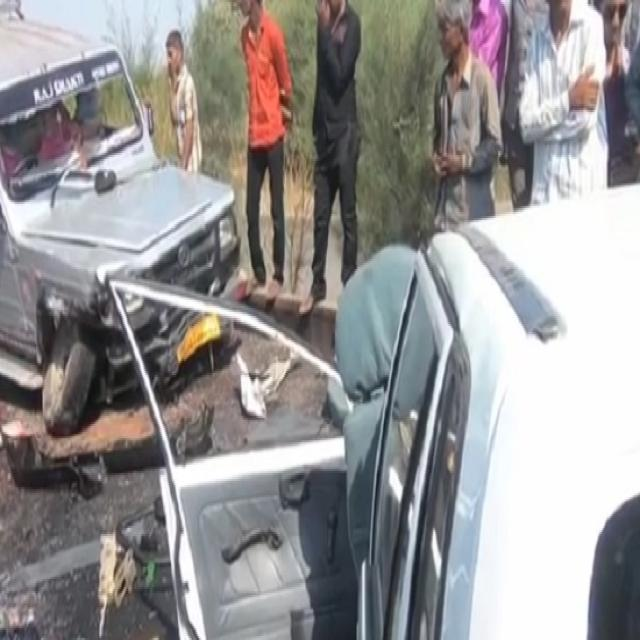accident: (0, 0, 240, 435)
